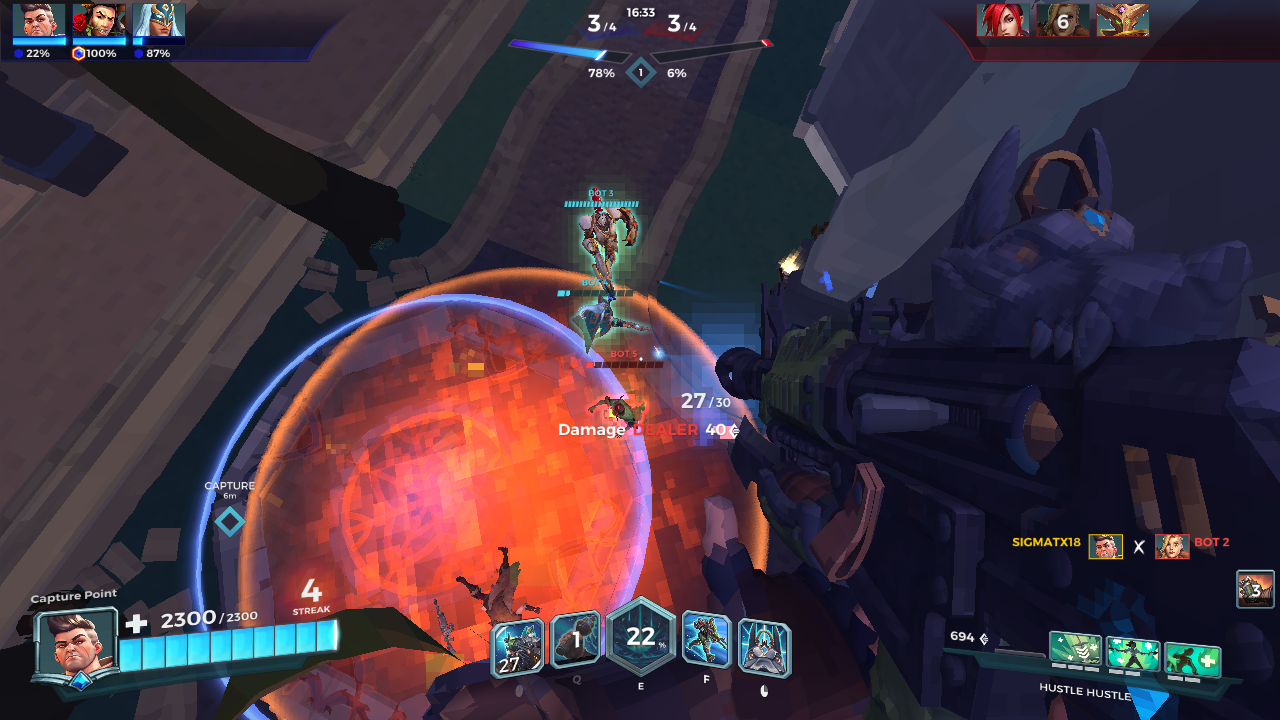model: (583, 385, 650, 439)
